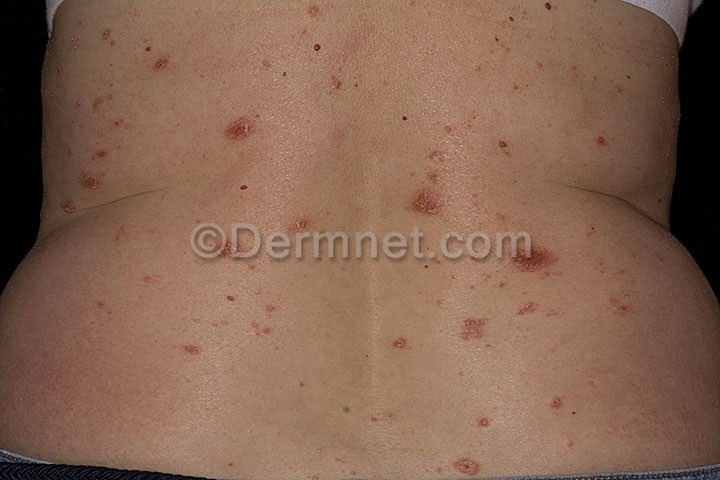Psoriasis: (408, 116, 476, 223), (53, 140, 116, 228), (428, 402, 504, 474), (205, 104, 283, 161), (425, 295, 507, 346), (498, 230, 568, 285), (166, 322, 227, 379), (313, 52, 358, 109), (127, 45, 186, 83), (607, 271, 644, 331), (241, 297, 284, 341), (373, 329, 424, 363), (215, 241, 257, 275), (271, 200, 317, 231), (582, 121, 616, 150), (545, 386, 576, 416)
